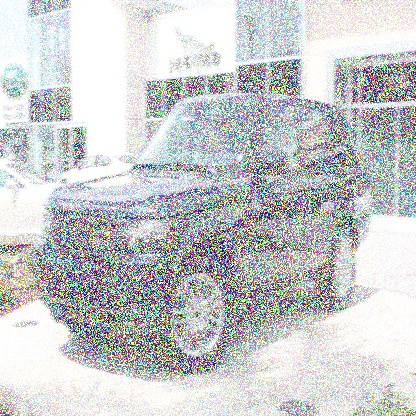Vehicle: (32, 87, 374, 374)
